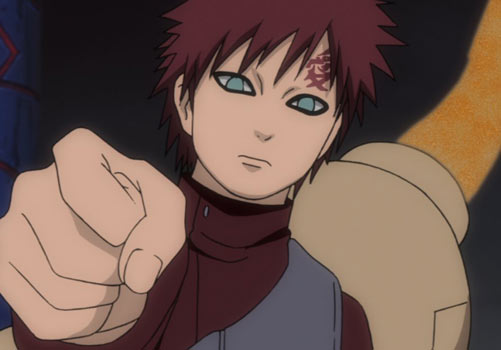gaara: (170, 13, 346, 201)
